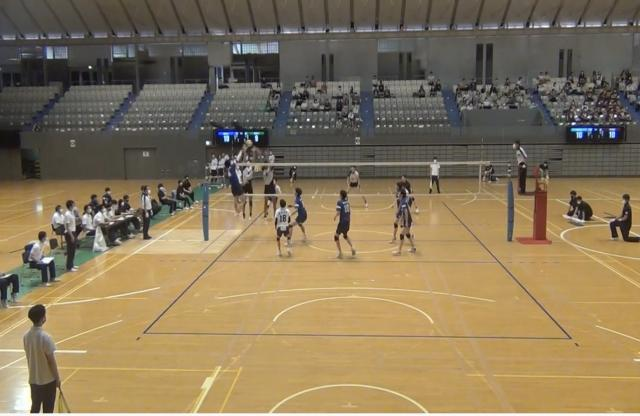spike: (220, 139, 258, 225)
